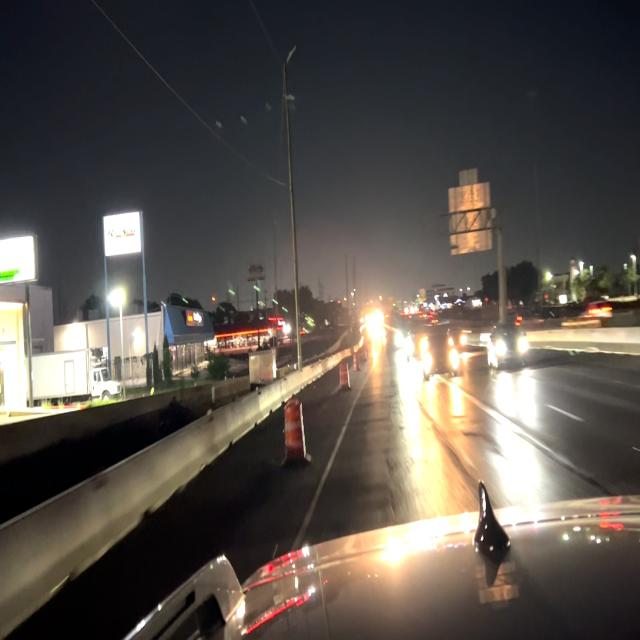back-of-sign: (448, 165, 500, 264)
